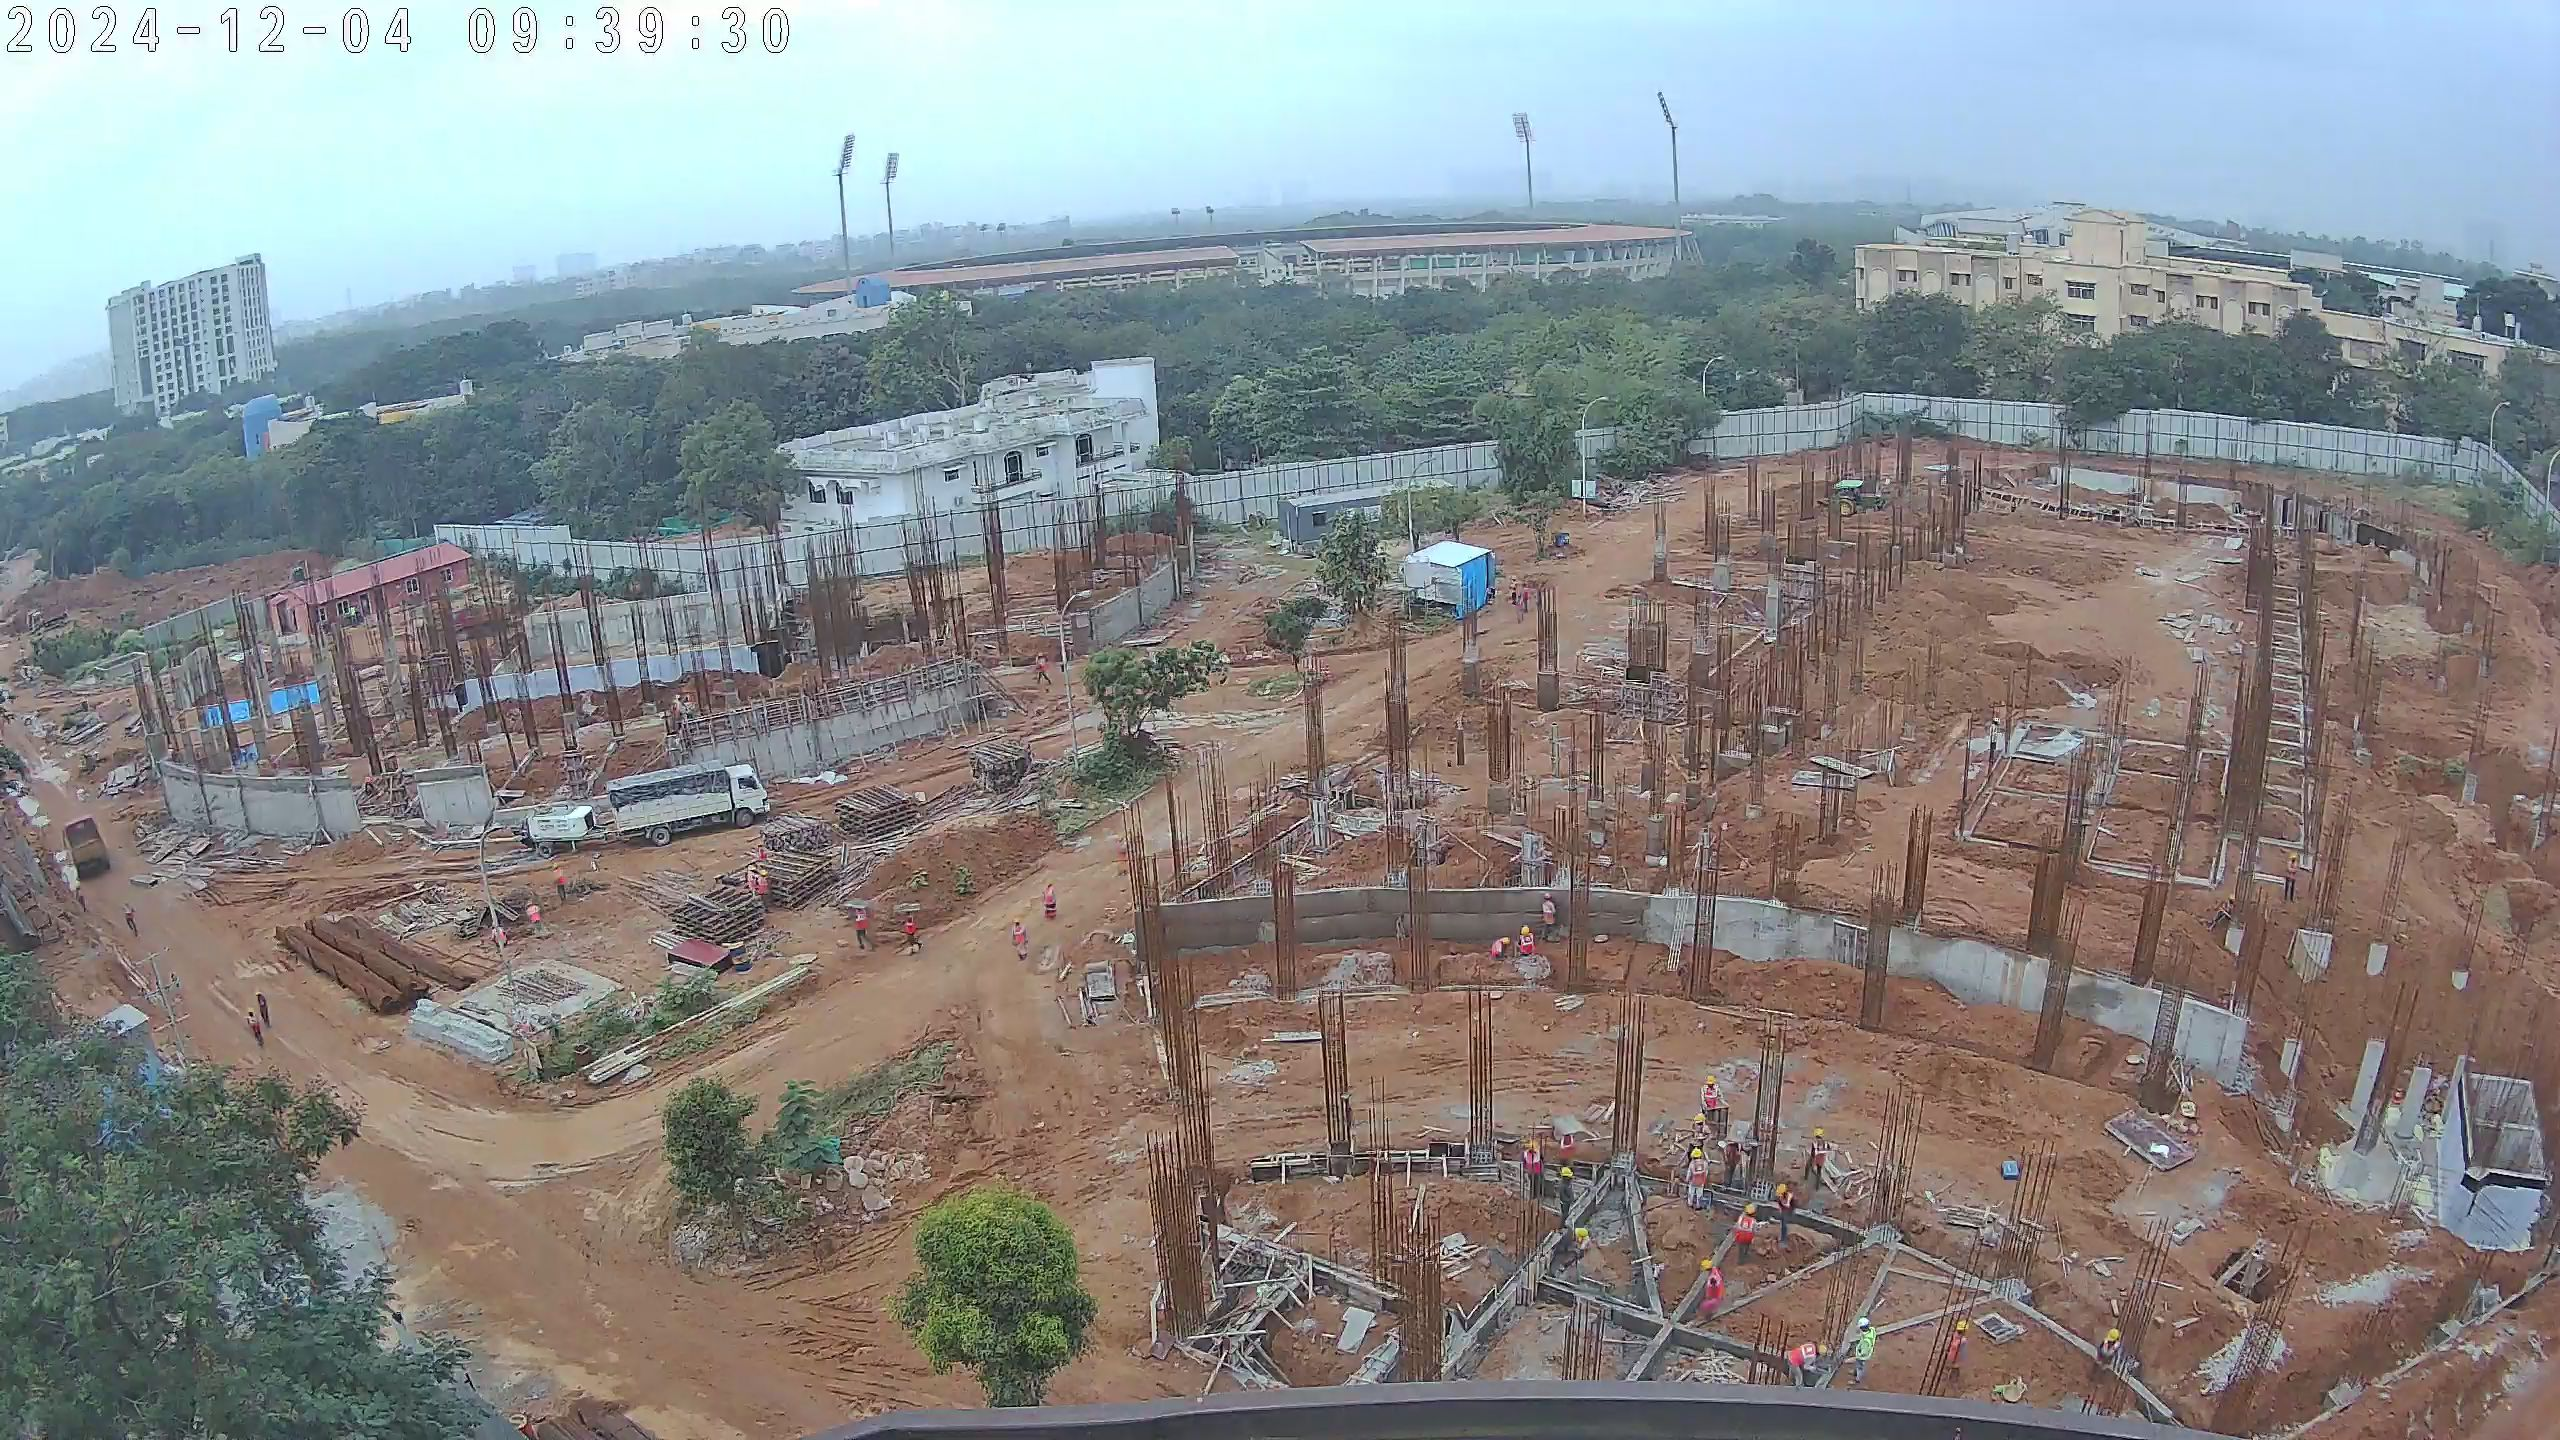bulldozer: (1829, 475, 1889, 519)
truck: (600, 764, 777, 839), (52, 806, 117, 886)
worker: (2091, 1318, 2127, 1408), (1550, 1124, 1579, 1218), (1850, 1312, 1881, 1391), (1697, 1260, 1727, 1337), (1695, 1075, 1727, 1137), (1522, 1131, 1545, 1206), (1781, 1341, 1814, 1391), (1772, 1179, 1795, 1250), (1683, 1152, 1706, 1218), (1802, 1127, 1825, 1191), (1947, 1312, 1966, 1383), (2206, 895, 2238, 937), (1731, 1204, 1752, 1266), (1538, 889, 1562, 942), (850, 906, 874, 958), (520, 895, 543, 945), (545, 862, 566, 916), (899, 916, 922, 962), (120, 899, 143, 942), (2282, 851, 2300, 905), (1515, 923, 1539, 963), (1010, 918, 1027, 974), (245, 1008, 266, 1051), (1043, 879, 1060, 931), (1033, 650, 1054, 692), (1489, 935, 1515, 966), (668, 691, 686, 732), (255, 990, 273, 1030), (1507, 574, 1523, 607), (755, 868, 768, 904), (754, 841, 772, 866), (1519, 581, 1532, 614), (743, 865, 755, 899)
